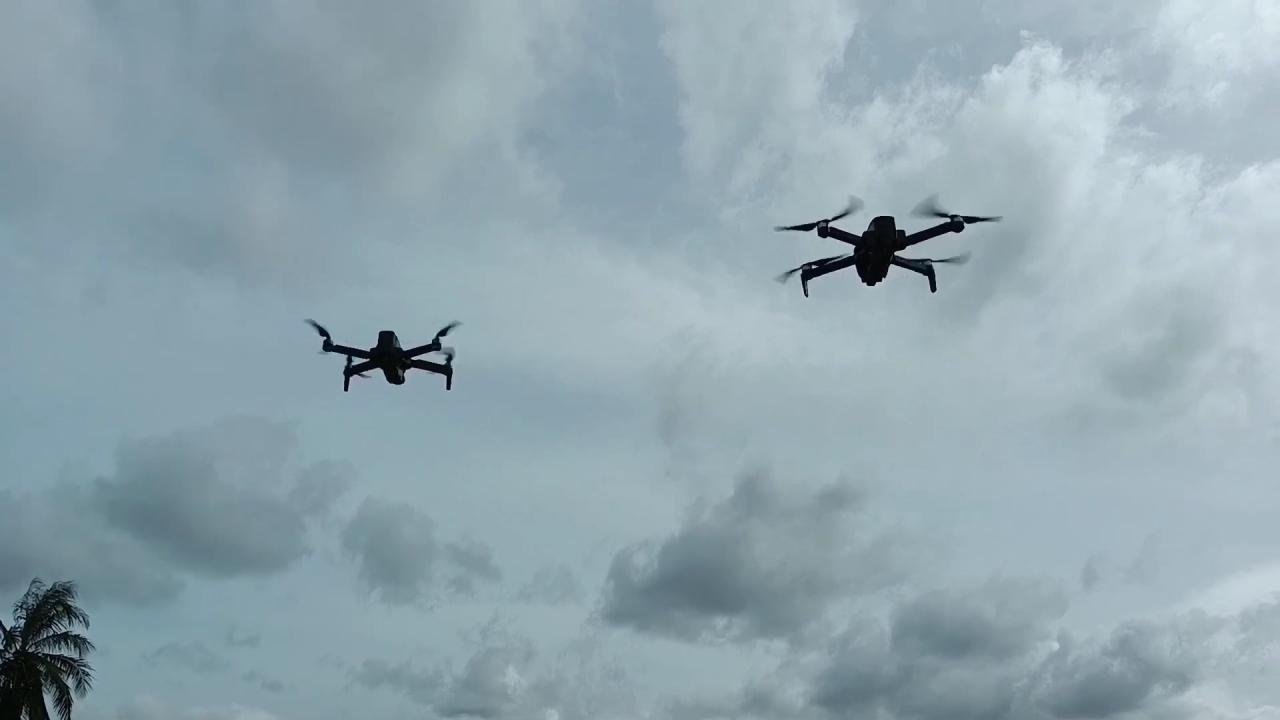Drone: (763, 188, 1015, 306), (294, 310, 486, 403)
